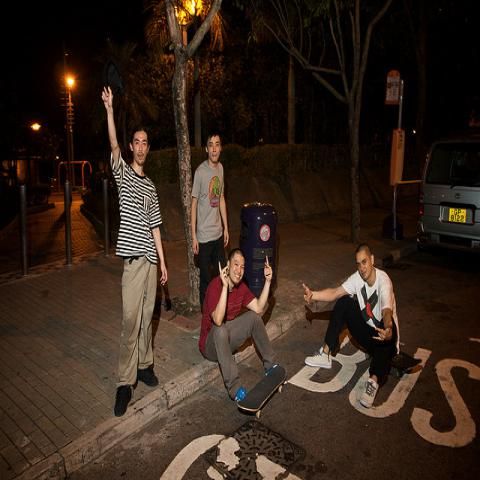car: (415, 133, 479, 260)
